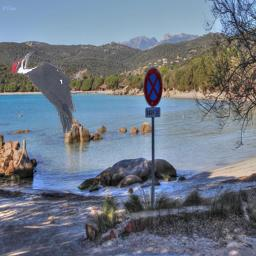Woodpecker: (9, 51, 87, 133)
